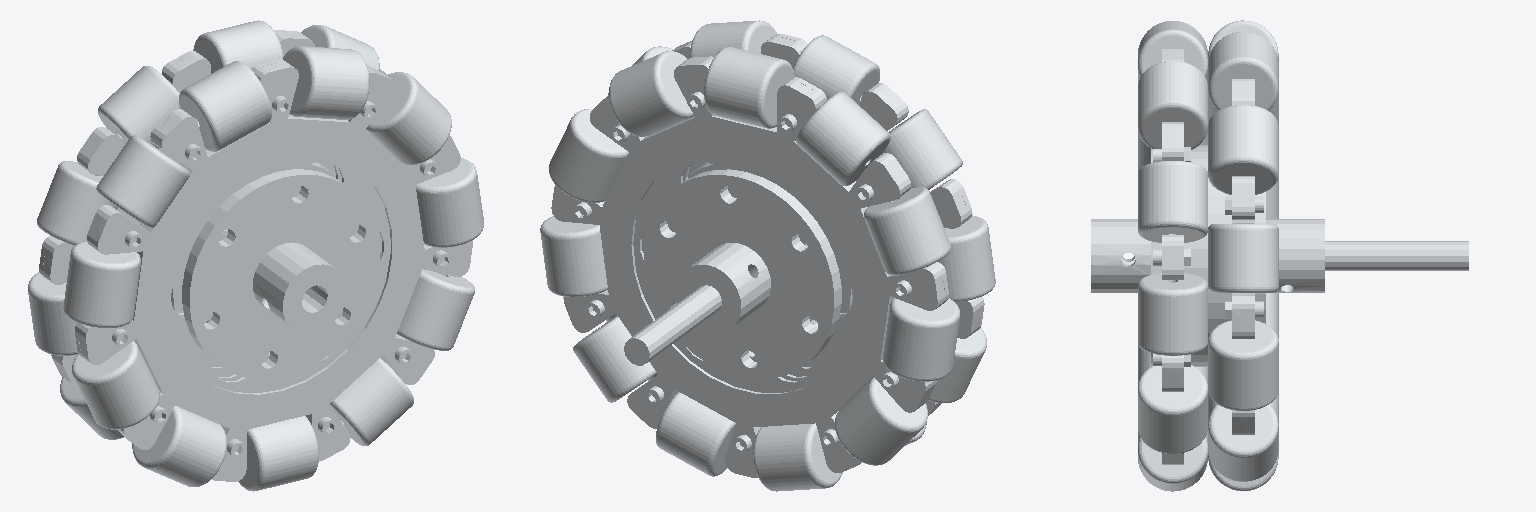
URDF robot description (wheel):
<?xml version="1.0" encoding="utf-8"?>
<!-- This URDF was automatically created by SolidWorks to URDF Exporter! Originally created by [author] ([email redacted]) 
     Commit Version: 1.6.0-4-g7f85cfe  Build Version: 1.6.7995.38578
     For more information, please see http://wiki.ros.org/sw_urdf_exporter -->
<robot
  name="wheel">
  <link
    name="base_link">
    <inertial>
      <origin
        xyz="0 0.0004289 0"
        rpy="0 0 0" />
      <mass
        value="0.894" />
      <inertia
        ixx="8.213E-05"
        ixy="0"
        ixz="0"
        iyy="0.00014914"
        iyz="0"
        izz="8.2108E-05" />
    </inertial>
    <visual>
      <origin
        xyz="0 0 0"
        rpy="0 0 0" />
      <geometry>
        <mesh
          filename="package://wheel/meshes/base_link.STL" />
      </geometry>
      <material
        name="">
        <color
          rgba="0.89804 0.91765 0.92941 1" />
      </material>
    </visual>
    <collision>
      <origin
        xyz="0 0 0"
        rpy="0 0 0" />
      <geometry>
        <mesh
          filename="package://wheel/meshes/base_link.STL" />
      </geometry>
    </collision>
  </link>
</robot>

--- Render facts (derived) ---
3 views of the same robot in one strip: view 1: azimuth 30°, elevation 25°; view 2: azimuth 150°, elevation 25°; view 3: azimuth 270°, elevation 25° (orthographic).
Robot: wheel — 1 links, 0 joints (none); root link base_link; default pose: all joints at 0.
Visible links, largest first — view 1: base_link; view 2: base_link; view 3: base_link.
Boxes of the visible links, x1=… form: base_link: x1=28, y1=20, x2=483, y2=491; base_link: x1=540, y1=20, x2=995, y2=491; base_link: x1=1091, y1=20, x2=1468, y2=491.
Size in the robot's own frame: 0.127 by 0.1017 by 0.126 metres.
Meshes: 1 distinct files referenced, 1 mesh visuals loaded (1 binary STL).